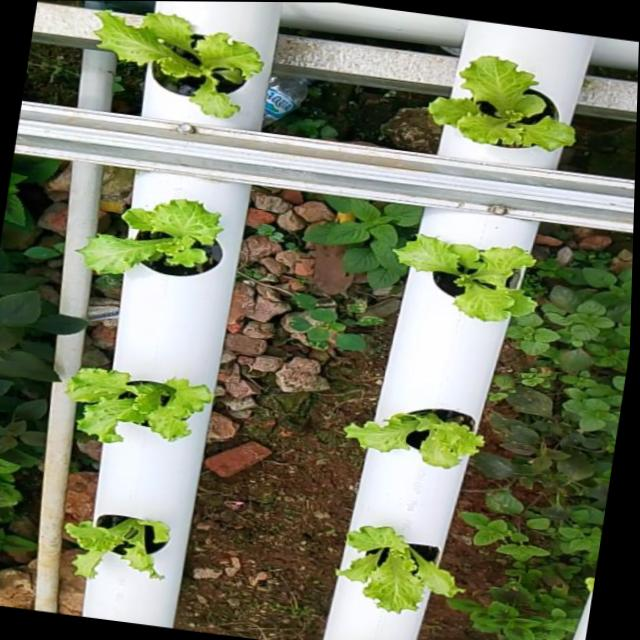Baby: (83, 16, 253, 124), (421, 58, 569, 170), (385, 236, 532, 324), (75, 199, 222, 278), (336, 527, 466, 615), (64, 369, 213, 445), (344, 410, 485, 470), (64, 516, 169, 581)
